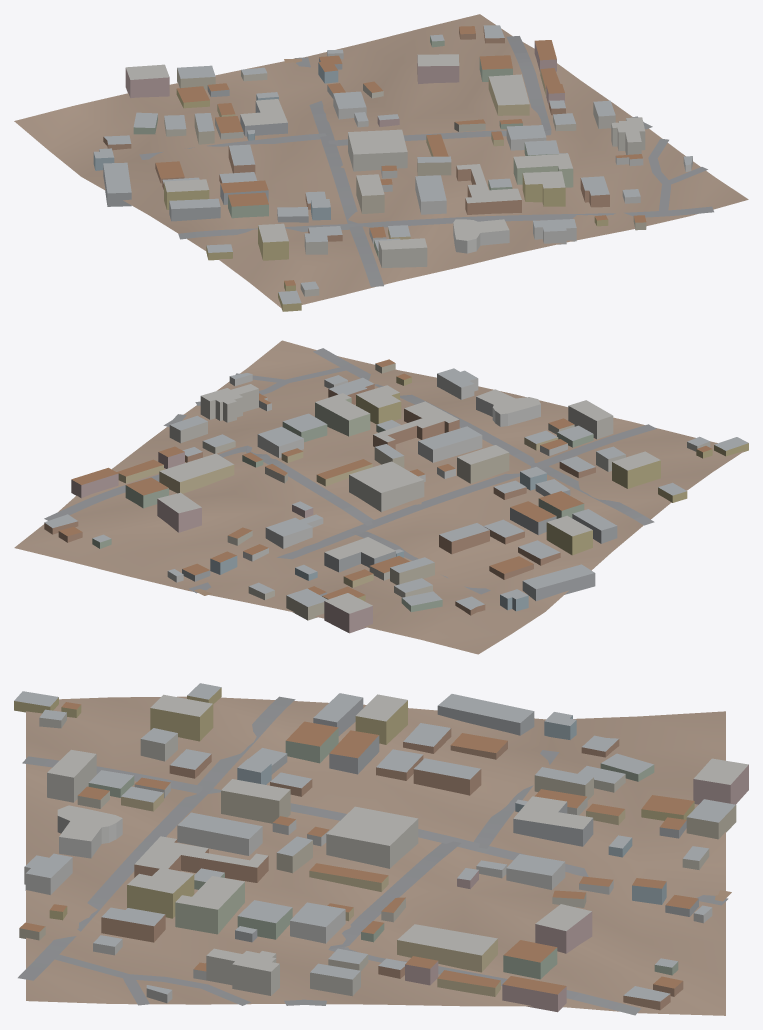
3 renders of one model, top to bottom at view 1: azimuth 30°, elevation 25°; view 2: azimuth 150°, elevation 25°; view 3: azimuth 270°, elevation 25°, orthographic. The views are drawn at different scales.
Parts seen in each view (by area): view 1: Lo; view 2: Lo; view 3: Lo.
Part boxes in pixels (x1,y1,x2,y2): Lo: [14, 14, 748, 311]; Lo: [14, 340, 748, 654]; Lo: [14, 683, 748, 1015].
Size of the model in its own units: 266 by 19.25 by 269.
